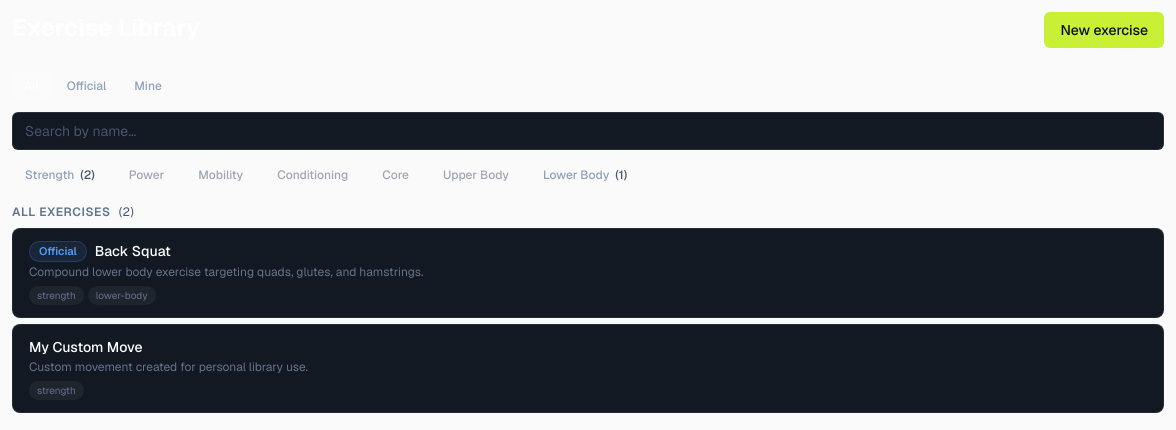
Scenario: ExercisesPage — scope selector › clicking "Mine" shows only COACH exercises
expect the text "Back Squat" is shown: met, box [95, 241, 171, 261]
Click the button "Mine" at (148, 86), box [122, 72, 174, 100]
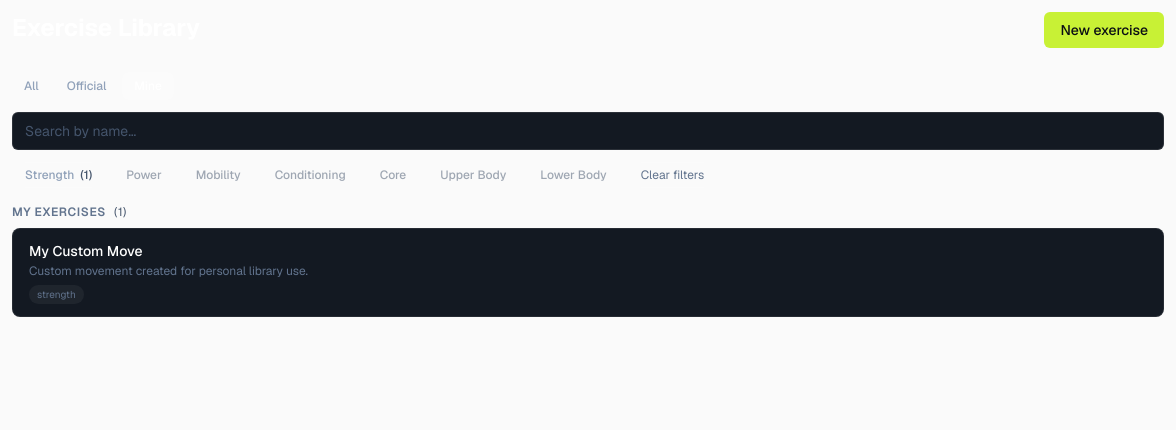
expect the text "My Custom Move" is shown: met, box [29, 241, 143, 261]
expect the text "Back Squat" is gone: met
